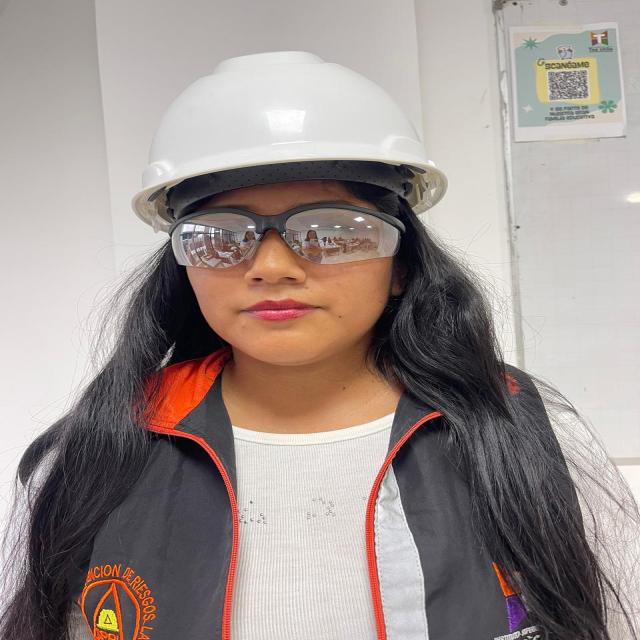helmet: (133, 52, 447, 210)
protective_glasses: (170, 204, 404, 268)
